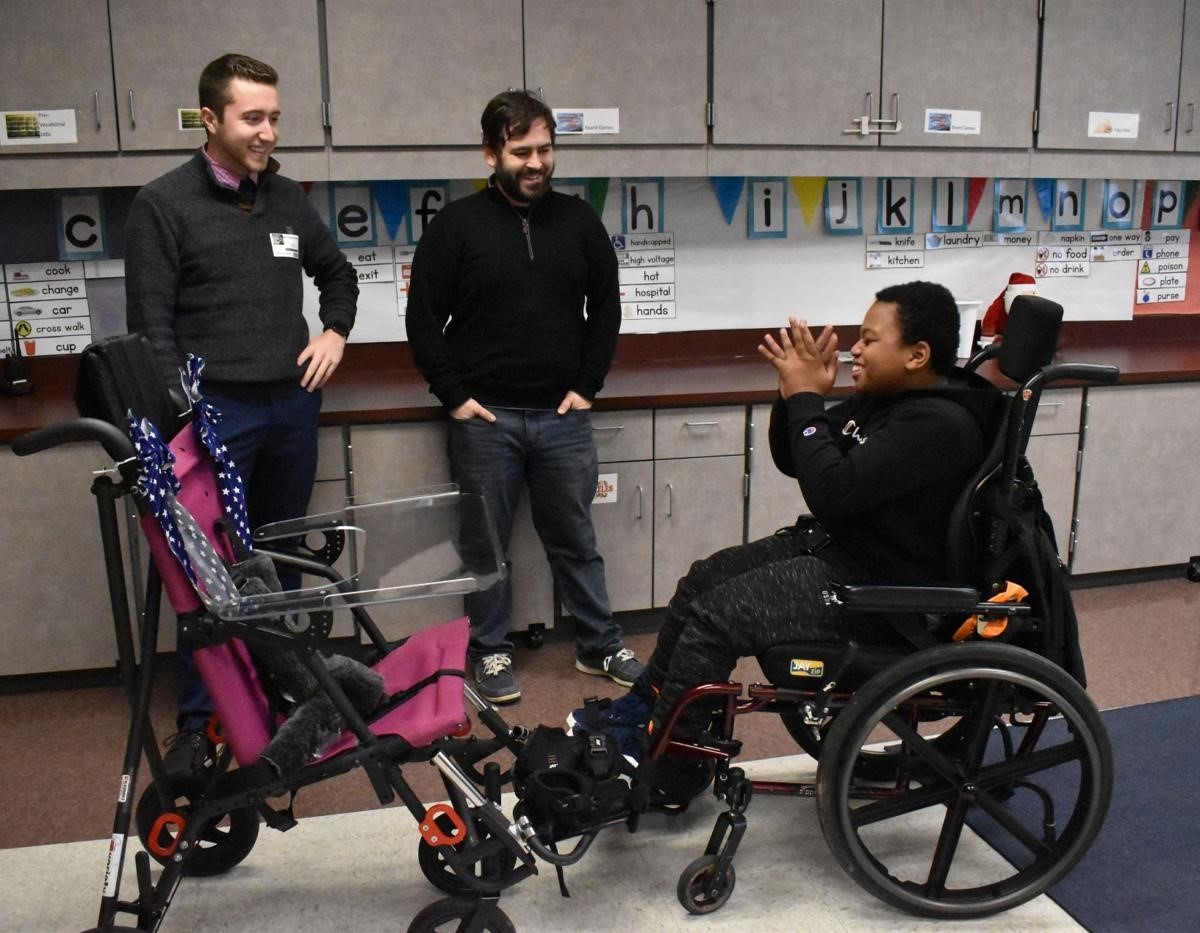face_no_mask: (851, 279, 957, 392), (197, 54, 282, 175), (479, 92, 561, 203)
